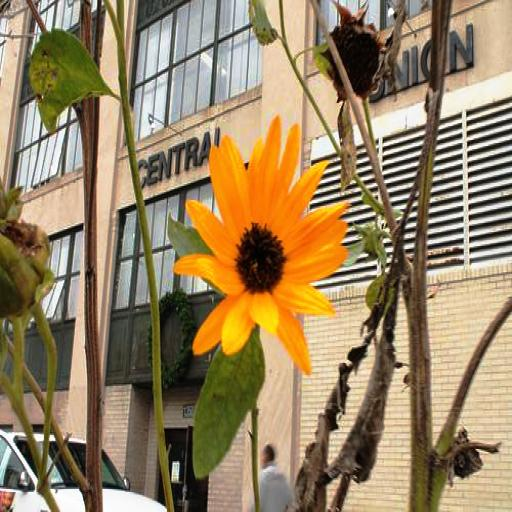sunflower: (176, 120, 345, 370)
